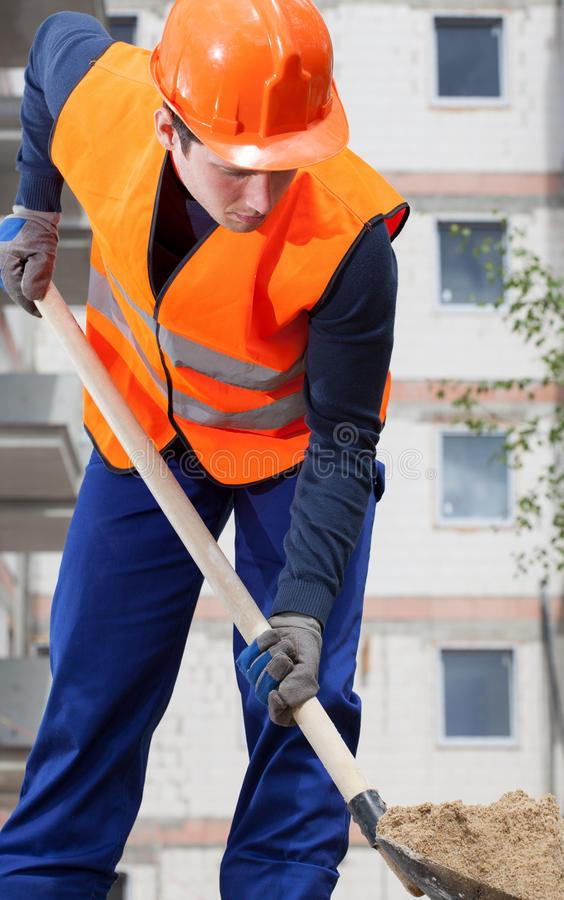helmet: (148, 1, 357, 174)
